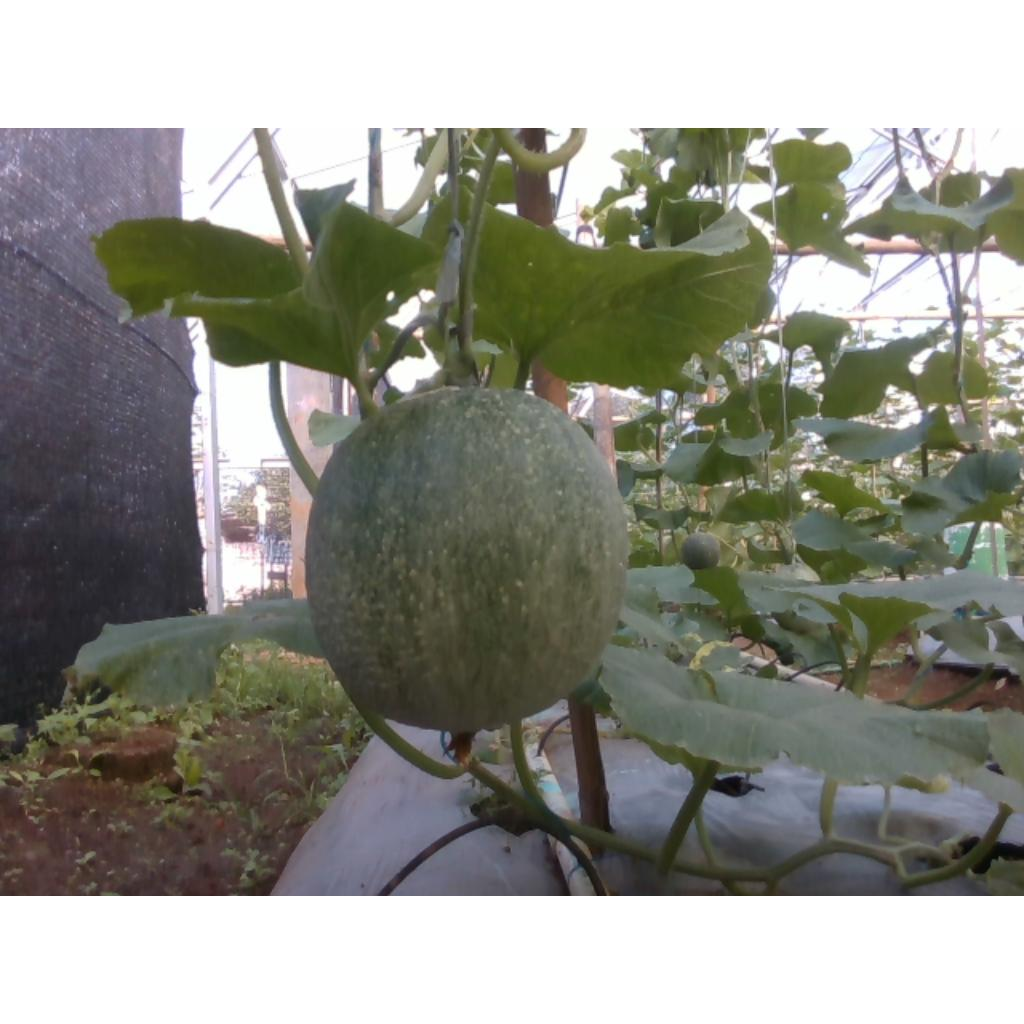melon: (307, 387, 629, 732)
